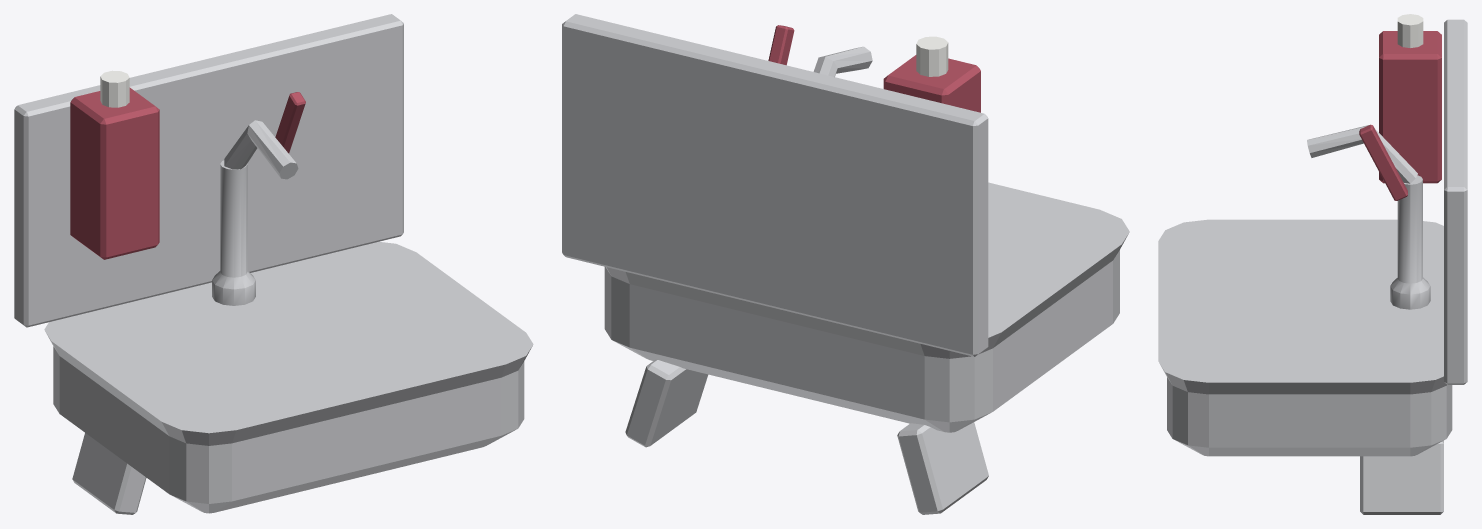
The model's file is butchers-shop-and-deli-counter-hand-wash-basin-fa958fe1__34456.glb.
3 renders of one model, left to right at view 1: azimuth 30°, elevation 25°; view 2: azimuth 150°, elevation 25°; view 3: azimuth 270°, elevation 25°, orthographic. The views are drawn at different scales.
Visible parts, largest first — view 1: hand-wash-basin; view 2: hand-wash-basin; view 3: hand-wash-basin.
Part boxes in pixels (bbox=[...]): hand-wash-basin: bbox=[14, 14, 533, 514]; hand-wash-basin: bbox=[562, 14, 1129, 514]; hand-wash-basin: bbox=[1158, 14, 1467, 514].
Bounding box in the file's own units: 0.48 × 0.5032 × 0.368.
